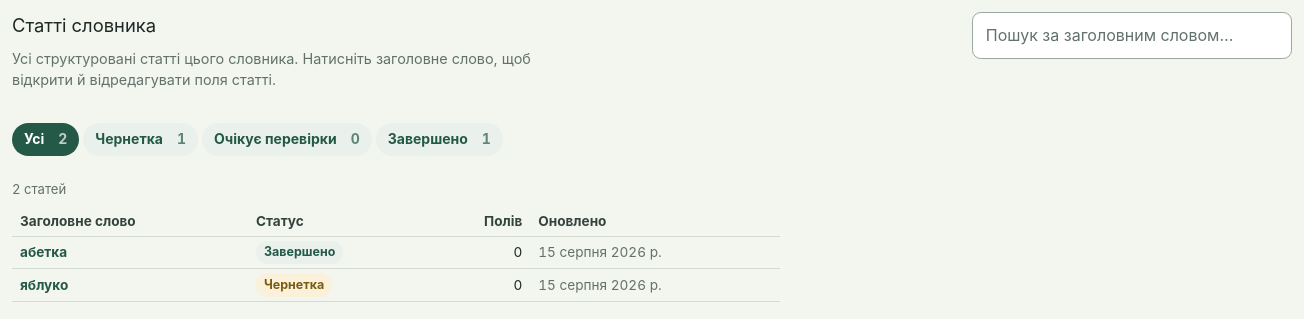
Scenario: EntriesListPage › filters by status when a chip is pressed
Check: the link "абетка" is shown, box [20, 244, 67, 260]
Click the button "Завершено 1".
click(439, 139)  # box [376, 123, 503, 156]
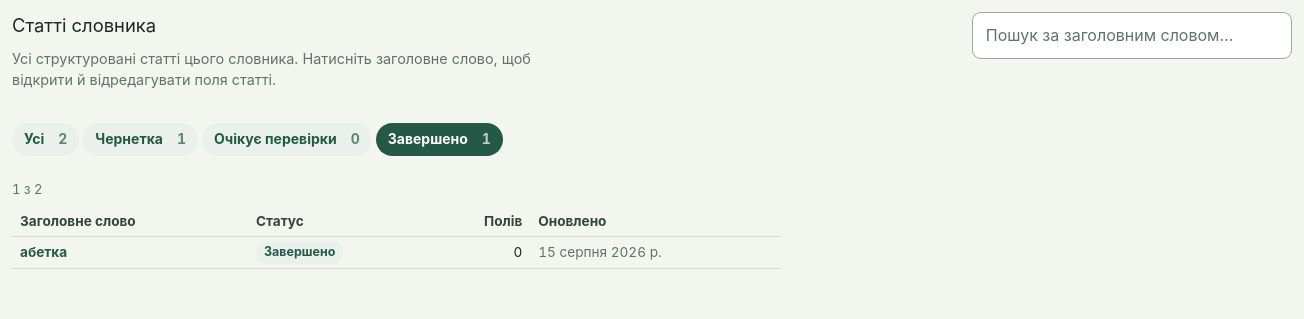
Check: the link "абетка" is shown, box [20, 244, 67, 260]
Check: the link "яблуко" is gone
Check: the text "1 з 2" is shown, box [12, 181, 42, 197]
